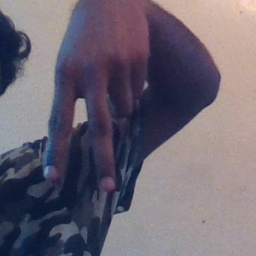Y: (32, 38, 143, 198)
